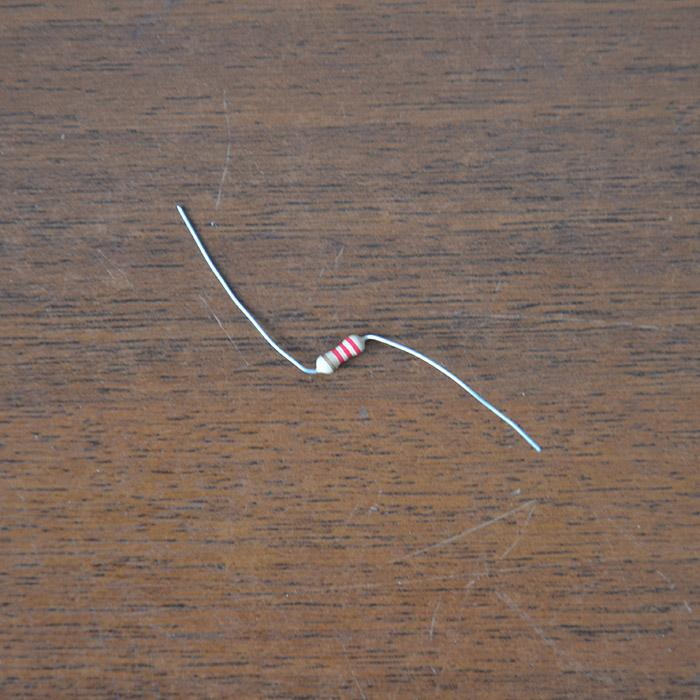resistor: (316, 332, 367, 374)
